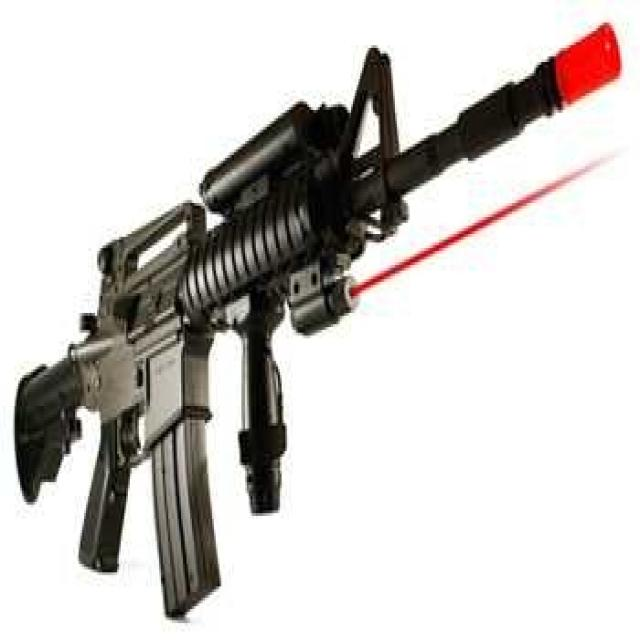Rifle: (16, 8, 623, 621)
